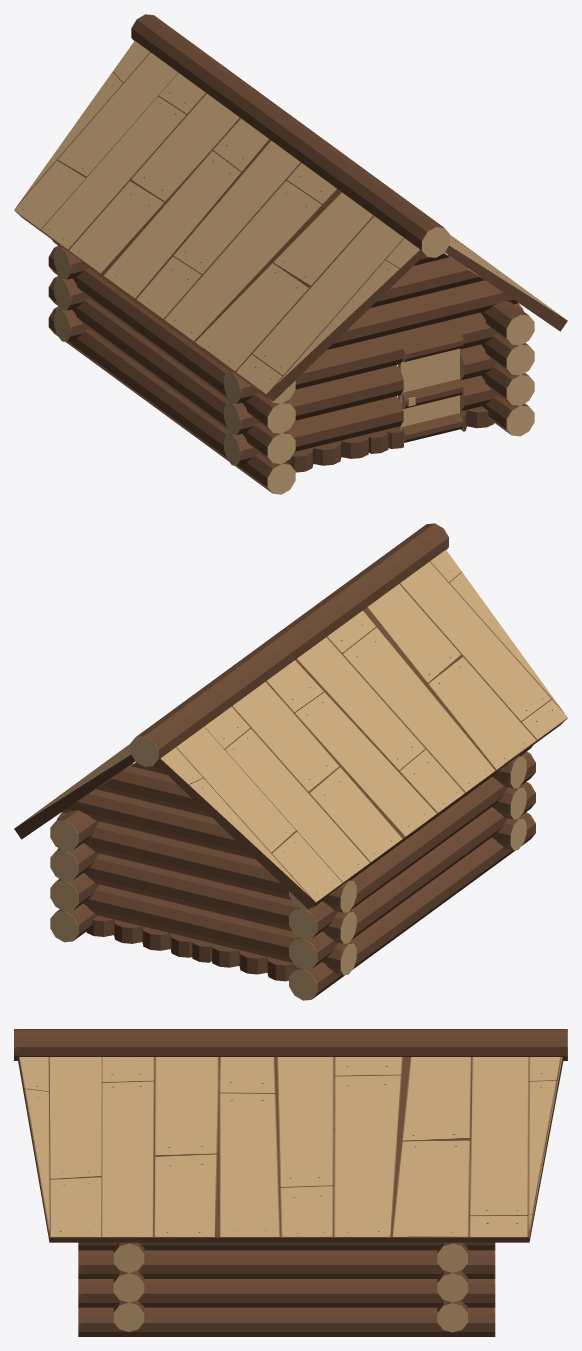
Rendered from Commoner_House.fbx.
The picture shows the model from 3 angles, top to bottom: view 1: azimuth 30°, elevation 25°; view 2: azimuth 150°, elevation 25°; view 3: azimuth 270°, elevation 25°; orthographic projection. The views are drawn at different scales.
Parts seen in each view (by area): view 1: Cube.001, Cylinder.002, Cylinder.027; view 2: Cube.001, Cylinder.002; view 3: Cube.001, Cylinder.002.
Part boxes in pixels (bbox=[...]): Cube.001: bbox=[14, 41, 567, 401]; Cylinder.002: bbox=[48, 14, 534, 494]; Cylinder.027: bbox=[398, 335, 463, 442]; Cube.001: bbox=[14, 550, 567, 909]; Cylinder.002: bbox=[50, 523, 535, 1000]; Cube.001: bbox=[18, 1057, 563, 1242]; Cylinder.002: bbox=[14, 1029, 567, 1336].
Size of the model in its own units: 677 by 564 by 1129.
Materials: 3 (3 with a texture image).
